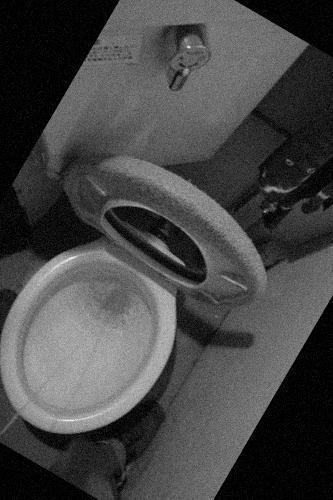Sanitario: (0, 107, 314, 498)
